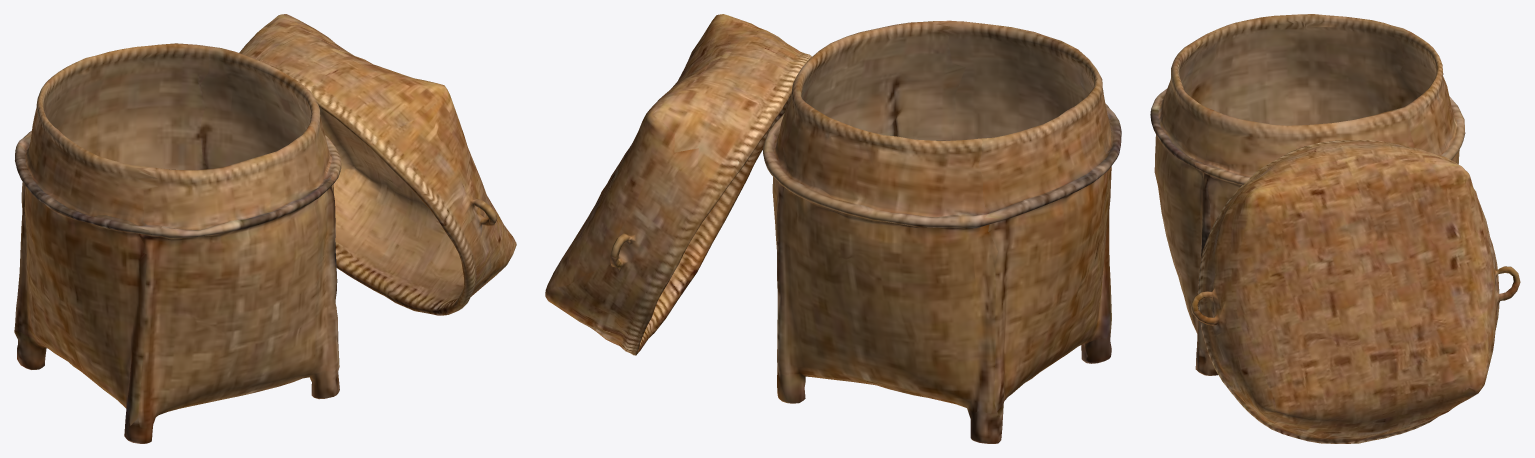
Rendered from basket_lid.glb.
3 renders of one model, left to right at view 1: azimuth 30°, elevation 25°; view 2: azimuth 150°, elevation 25°; view 3: azimuth 270°, elevation 25°, orthographic. The views are drawn at different scales.
Parts seen in each view (by area): view 1: basket_lid; view 2: basket_lid; view 3: basket_lid.
Boxes of the visible parts, x1,y1,x2,y2 form: basket_lid: (14, 14, 516, 443); basket_lid: (545, 14, 1121, 443); basket_lid: (1150, 14, 1520, 443).
Bounding box in the file's own units: 0.3469 × 0.2005 × 0.2545.
Materials: 1 (1 with a texture image).
